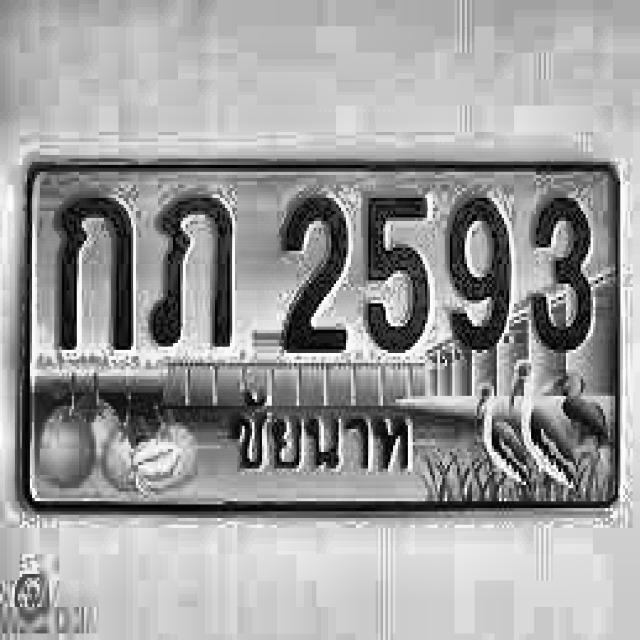license-plate: (12, 131, 631, 551)
